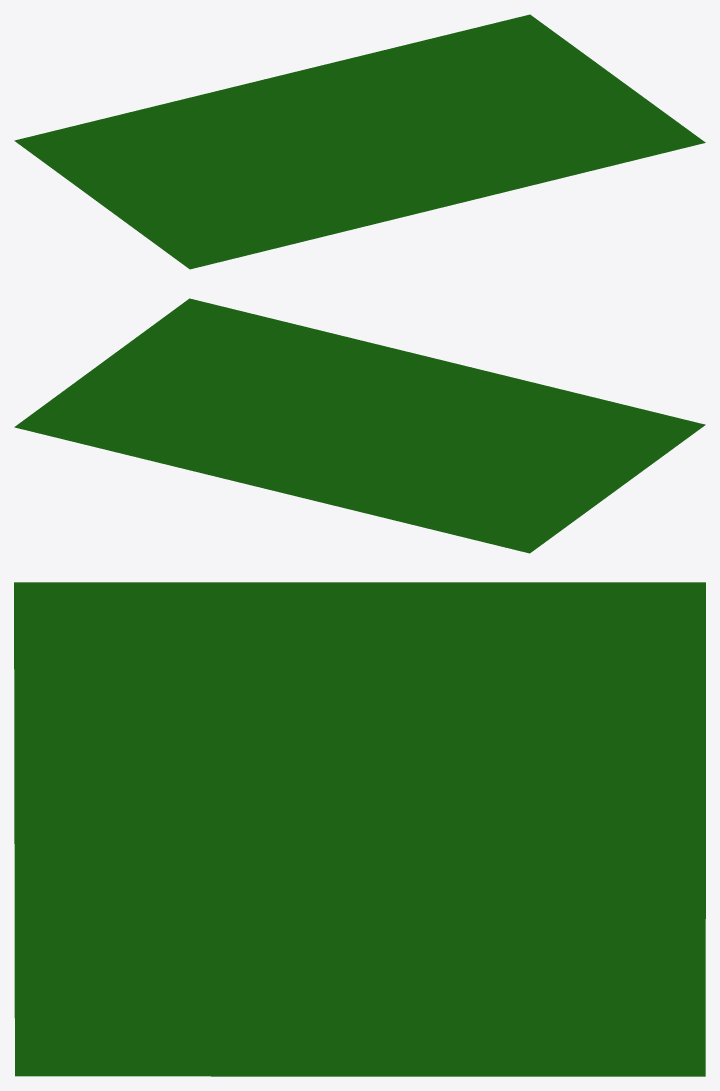
The model's file is map_1002_dixing_01.FBX.
The picture shows the model from 3 angles, top to bottom: view 1: azimuth 30°, elevation 25°; view 2: azimuth 150°, elevation 25°; view 3: azimuth 270°, elevation 25°; orthographic projection. The views are drawn at different scales.
Visible parts, largest first — view 1: map_1002_dixing_01; view 2: map_1002_dixing_01; view 3: map_1002_dixing_01.
Boxes of the visible parts, left/top/right/bottom form: map_1002_dixing_01: left=14, top=14, right=705, bottom=269; map_1002_dixing_01: left=14, top=298, right=705, bottom=553; map_1002_dixing_01: left=14, top=582, right=705, bottom=1076.
Size of the model in its own units: 114 by 0.1158 by 67.18.
